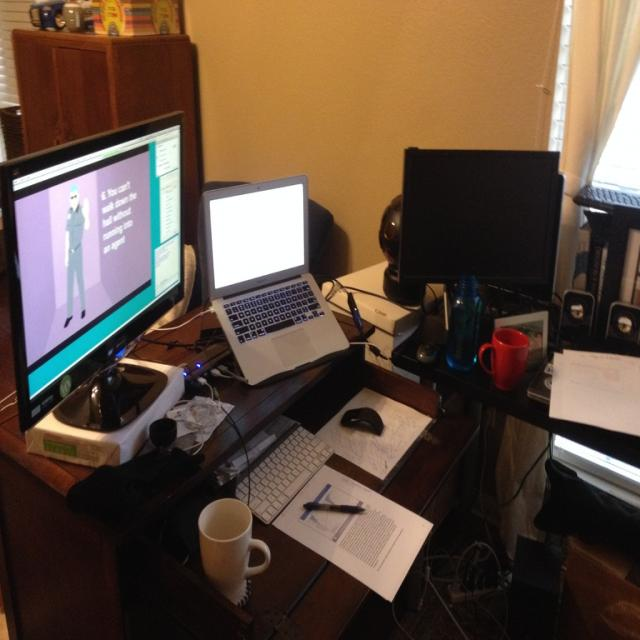desk: (0, 291, 481, 640)
keyboard: (230, 422, 333, 526)
laptop: (198, 174, 352, 388)
mouse: (340, 407, 385, 435)
tv: (1, 110, 186, 439), (397, 148, 565, 306)
